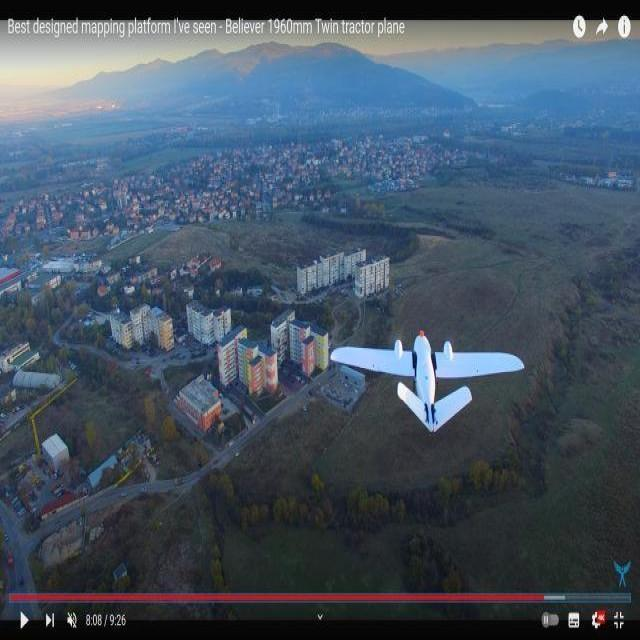Airplane: (324, 324, 528, 434)
